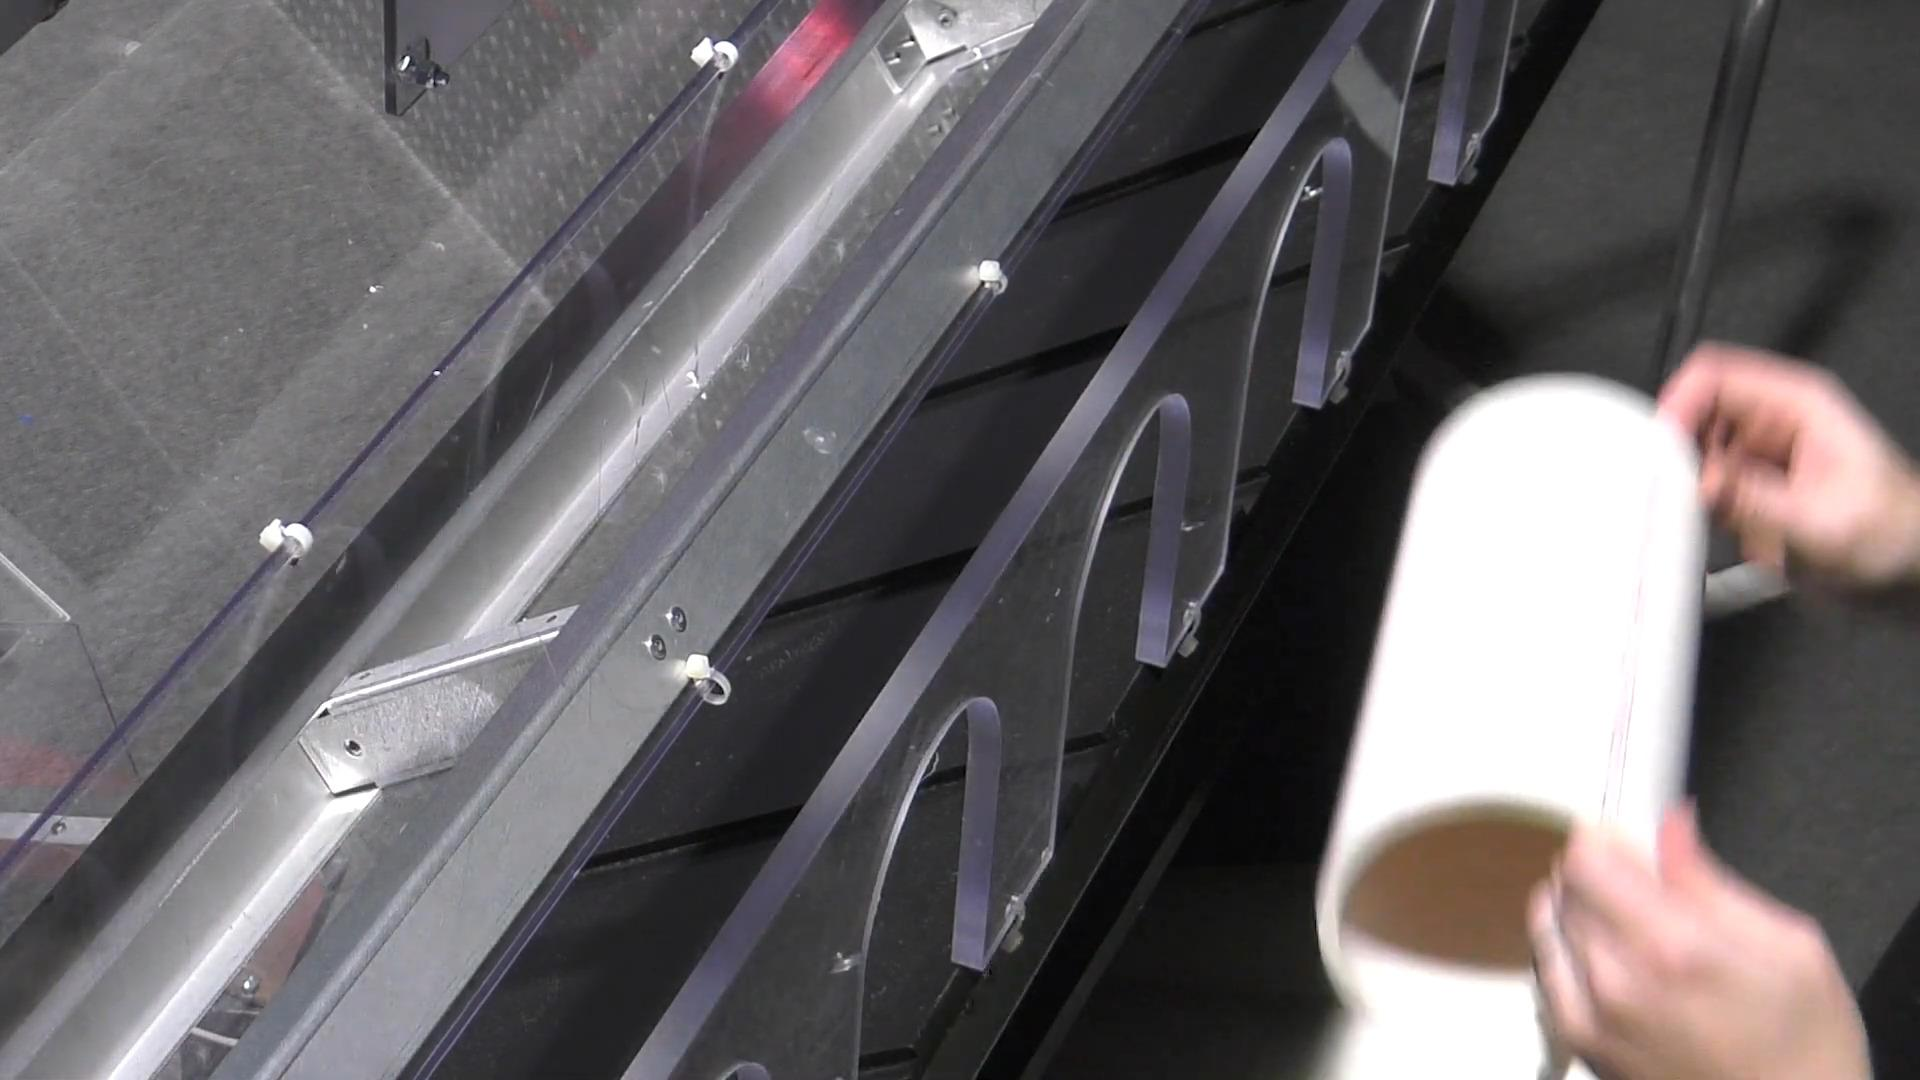coral: (1309, 368, 1712, 1073)
